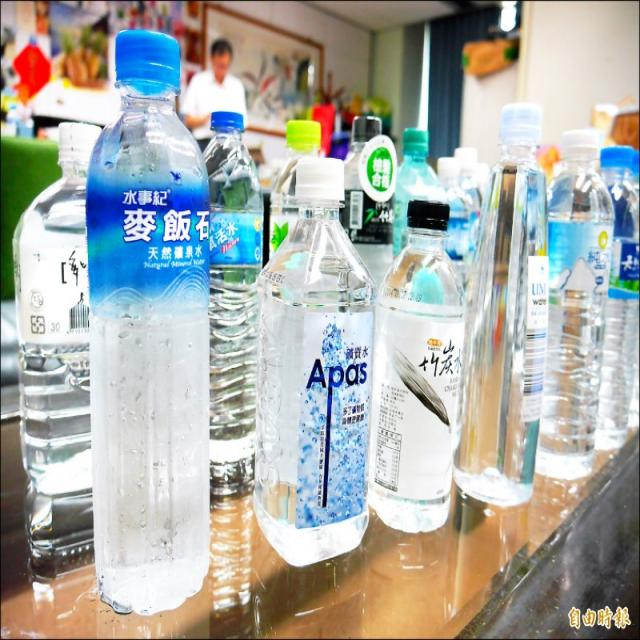plastic: (16, 28, 213, 612), (362, 111, 548, 536), (200, 111, 369, 561), (546, 119, 640, 484)
